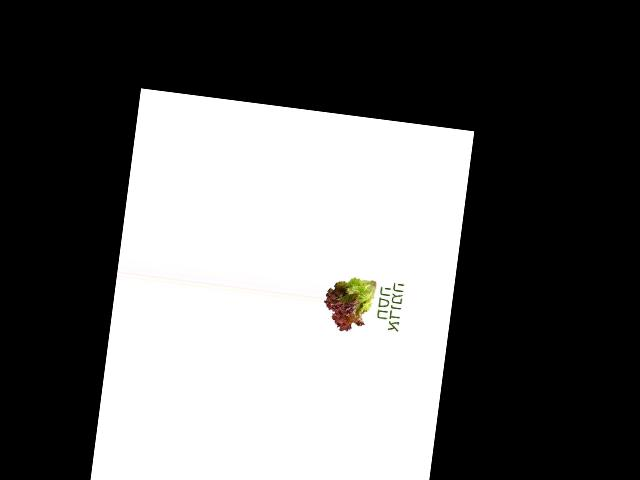lettuce: (320, 268, 379, 336)
